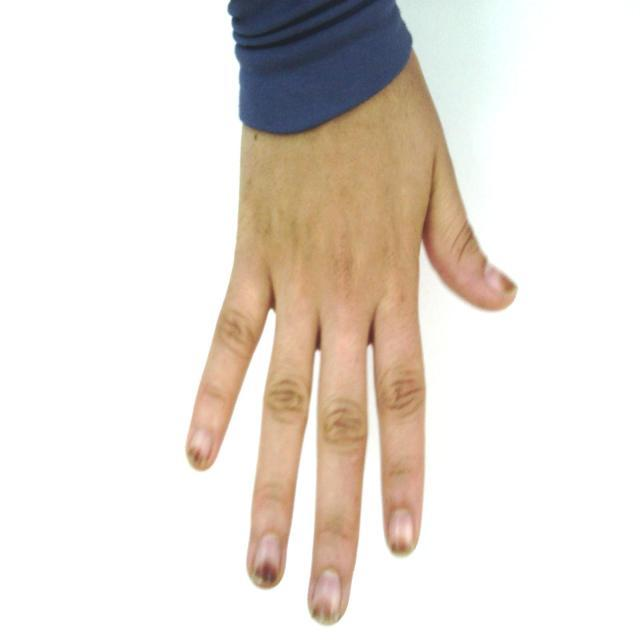Fingernail: (312, 569, 342, 626), (253, 534, 280, 588), (389, 510, 415, 555), (485, 263, 517, 293), (188, 431, 214, 466)
